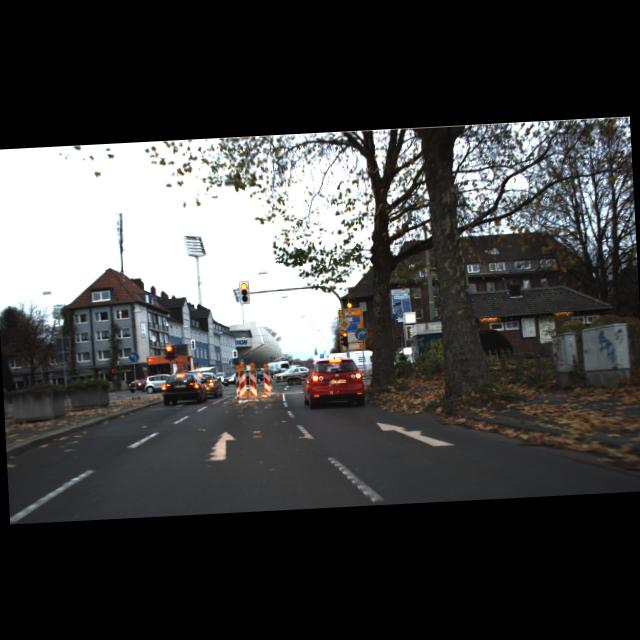mandatory: (354, 327, 368, 341), (128, 351, 139, 363)
other: (337, 316, 351, 331)
